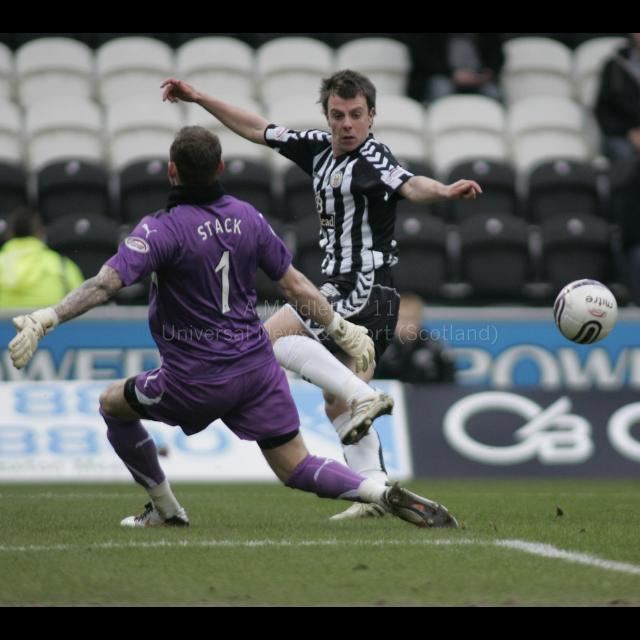Football: (554, 278, 618, 344)
